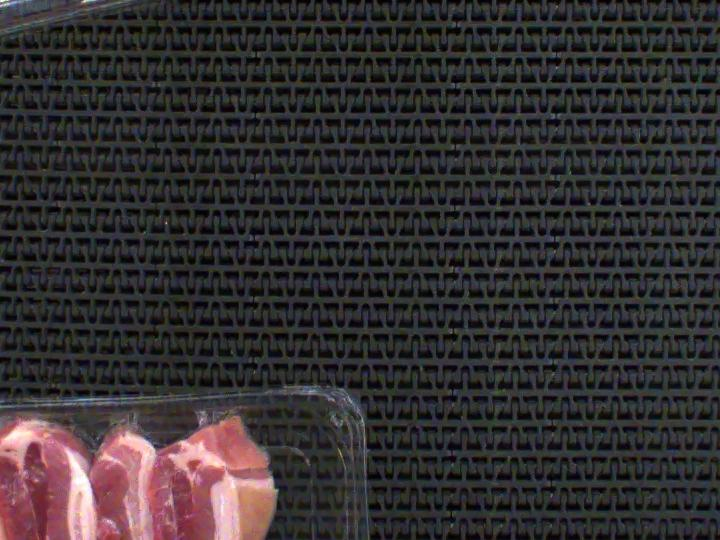packaging-error: (84, 402, 159, 450), (182, 401, 270, 437)
